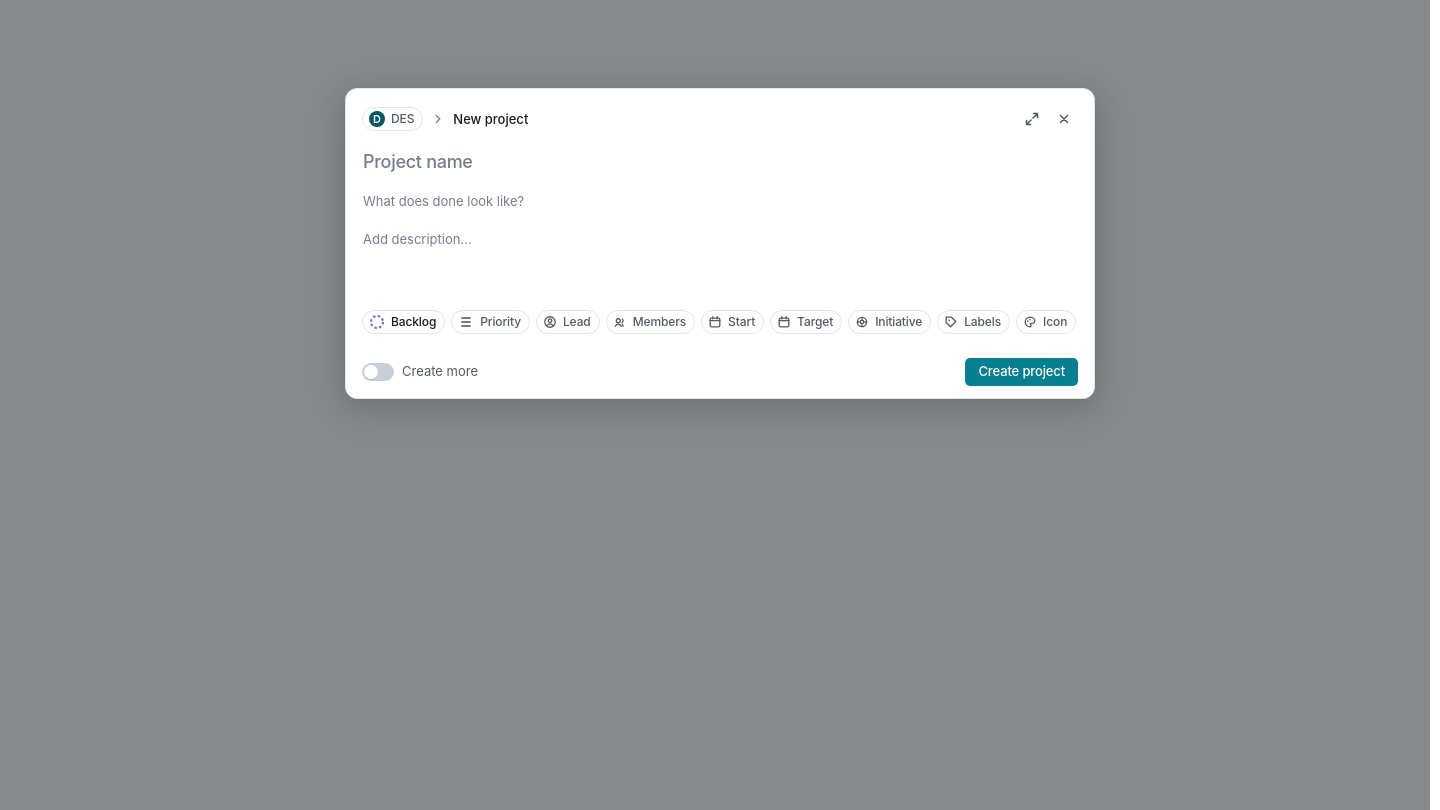
Test: CreateProjectModal › stays open holding what was typed when the create is refused
The image size is (1440, 810).
Type "Aurora launch" into the field labelled "name" at (720,161), box [363,146,1077,176]
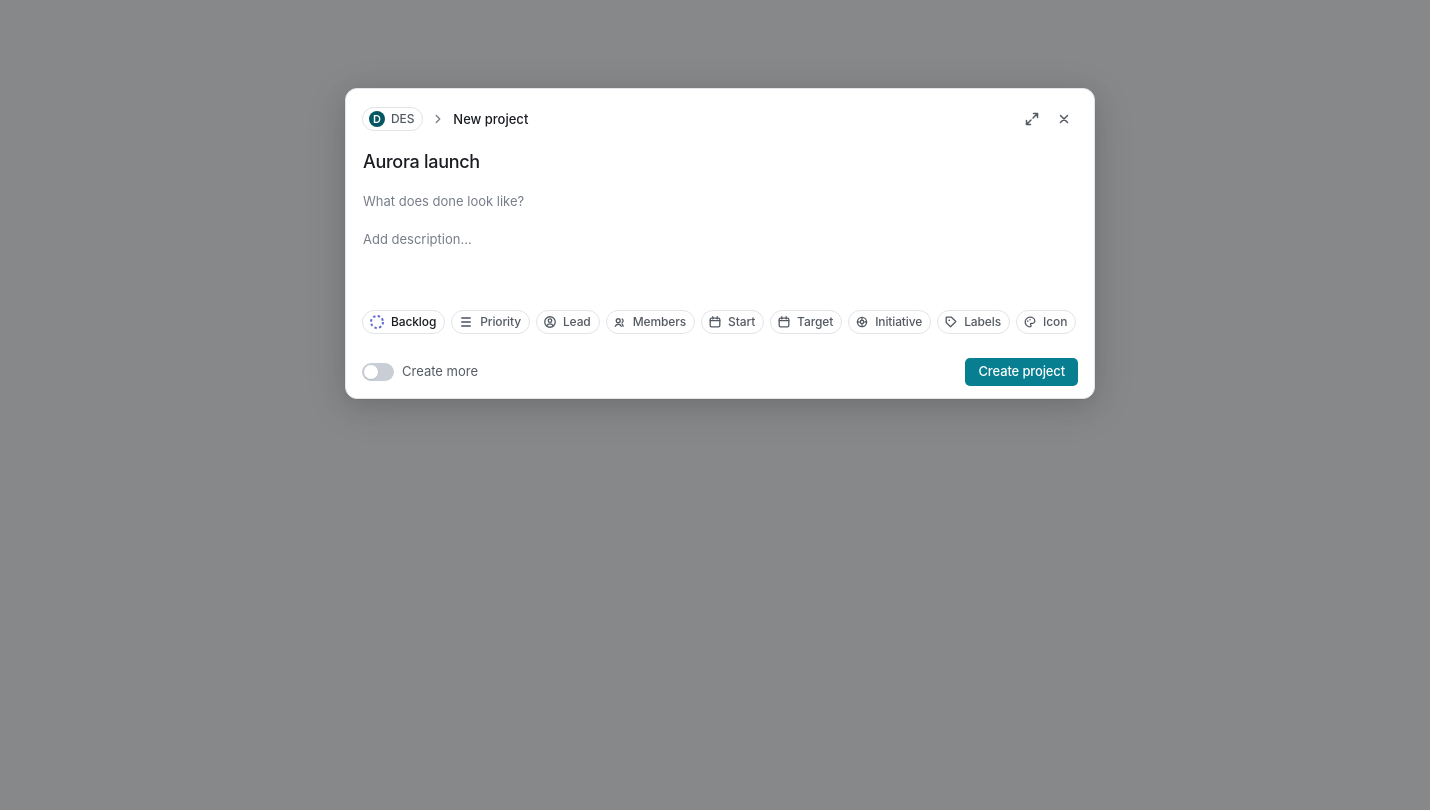
Click the button "Create project" at (1022,372), box [966,358,1078,386]
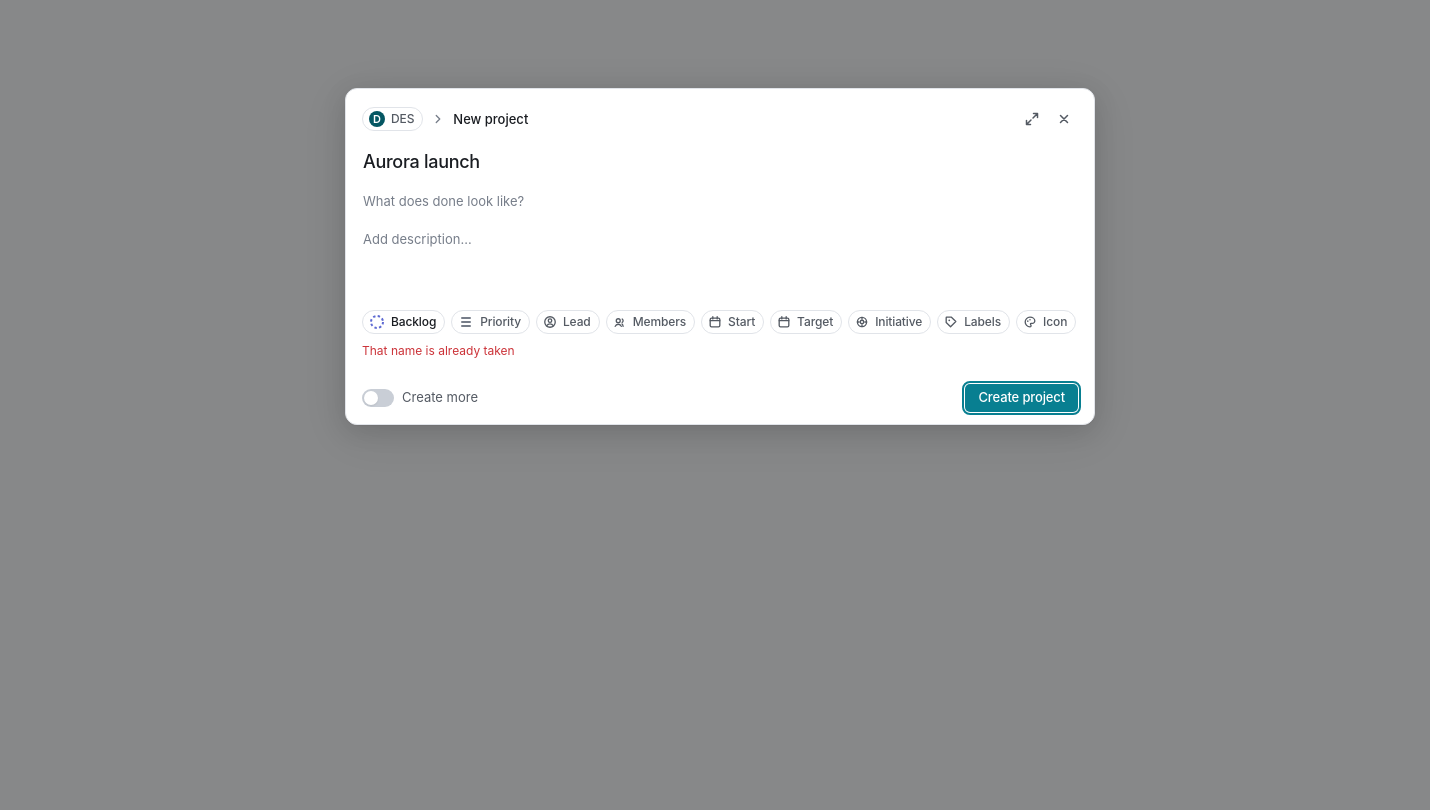
Now the text "That name is already taken" is shown, box [362,342,515,358]
